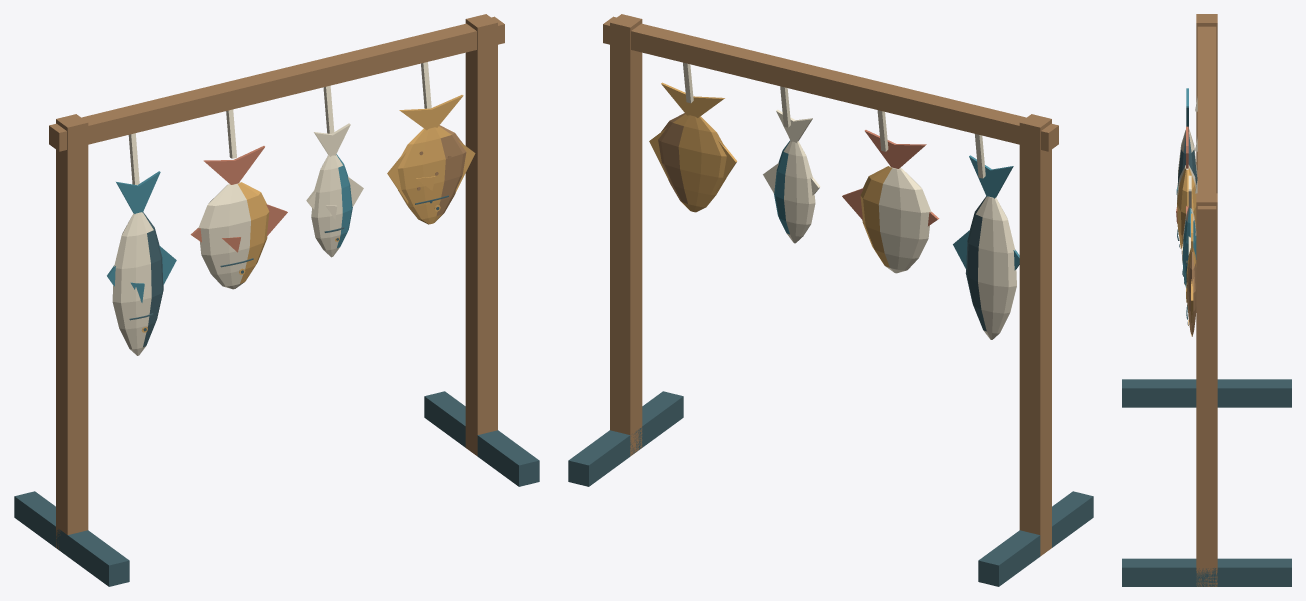
File: AC_Fish_Drying_Rack.glb
The picture shows the model from 3 angles, left to right: view 1: azimuth 30°, elevation 25°; view 2: azimuth 150°, elevation 25°; view 3: azimuth 270°, elevation 25°; orthographic projection. The views are drawn at different scales.
Parts seen in each view (by area): view 1: AC_Fish_Drying_Rack; view 2: AC_Fish_Drying_Rack; view 3: AC_Fish_Drying_Rack.
Part boxes in pixels (x1,y1,x2,y2): AC_Fish_Drying_Rack: (14,14,539,586); AC_Fish_Drying_Rack: (568,14,1093,586); AC_Fish_Drying_Rack: (1122,14,1291,586).
Size of the model in its own units: 1.74 by 1.6 by 0.64.
